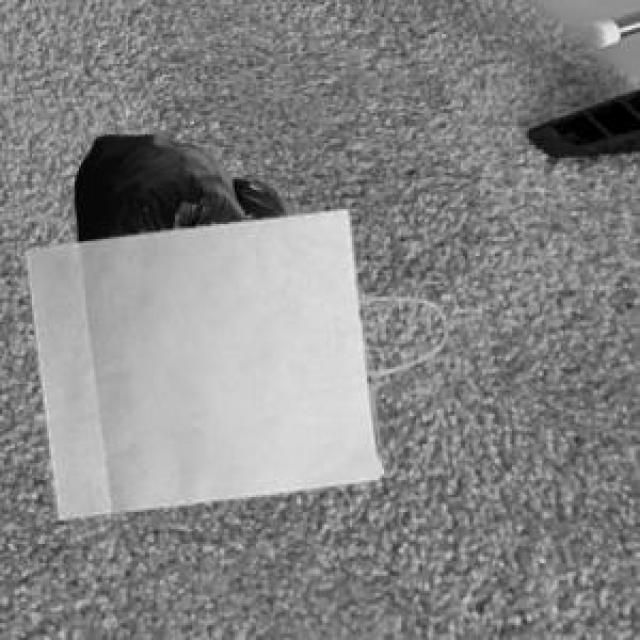miscellaneous trash: (70, 130, 292, 239)
paper: (21, 205, 443, 514)
